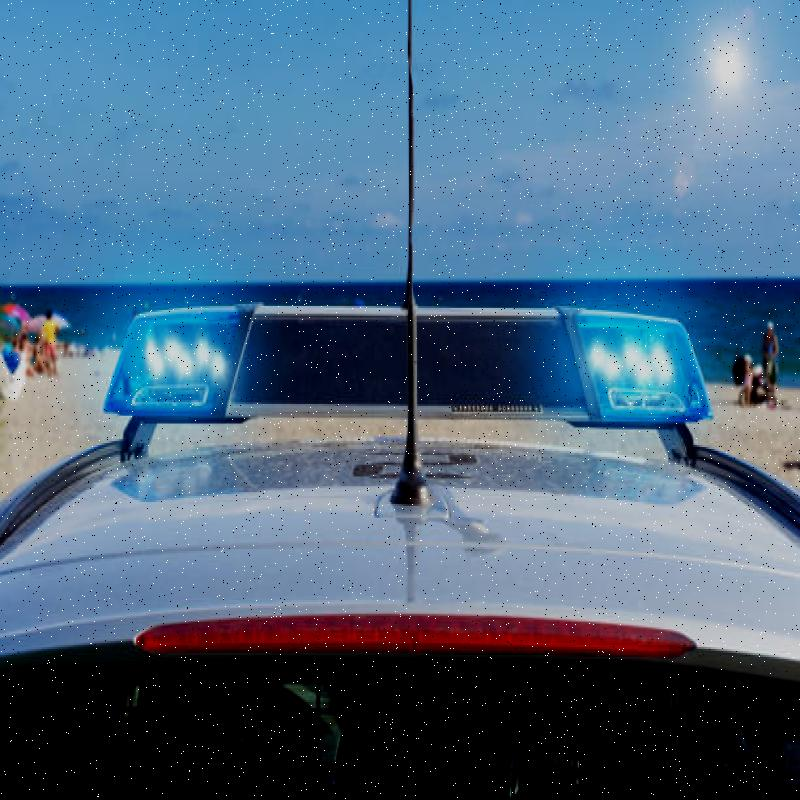AmbulanceSiren: (86, 300, 733, 477)
